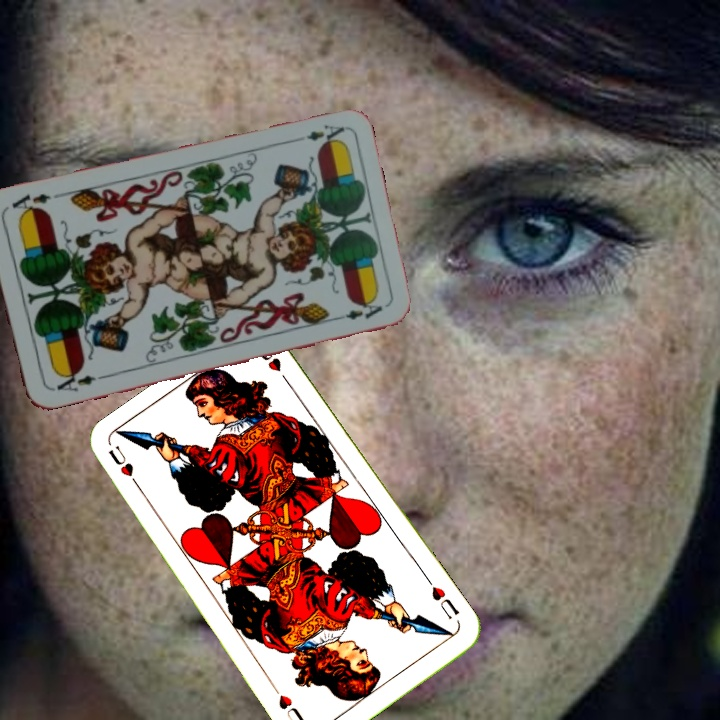EA: (288, 120, 347, 149), (47, 366, 106, 394)
HU: (104, 441, 145, 494), (423, 575, 462, 621)
